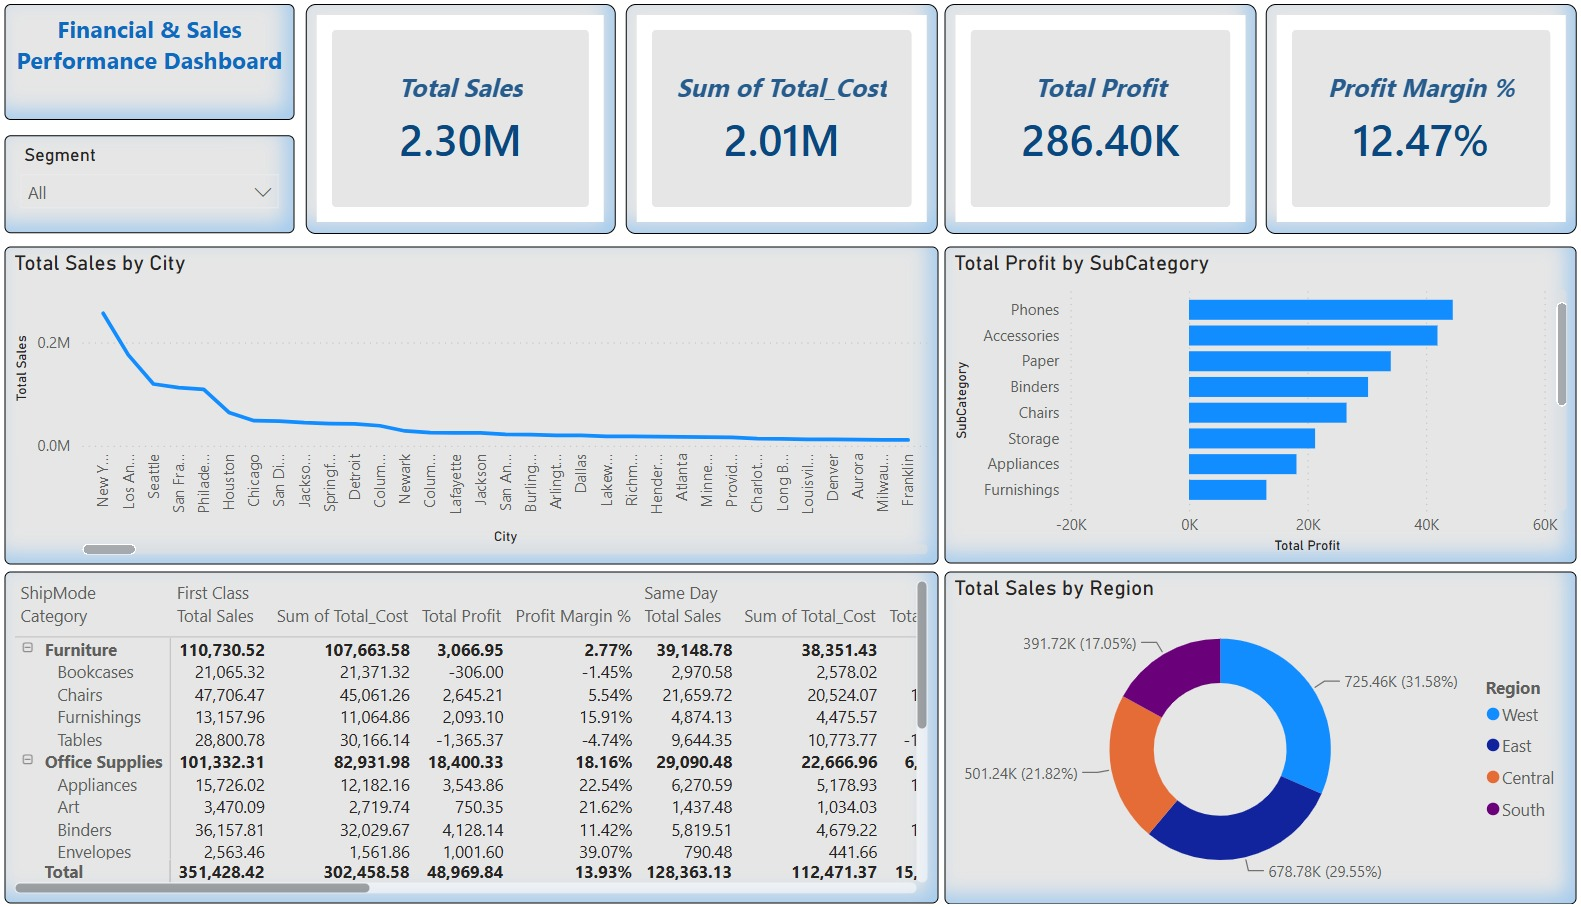

What the dashboard file says about the page in this screenshot:
{"tool":"powerbi","page":{"name":"Page 1","canvas":[1280,720],"ordinal":0},"visuals":[{"type":"group","id":"g1","title":"Group 1","box":[251,0,1017.1,184.1],"z":0},{"type":"cardVisual","fields":{"Data":["Sum(vw_Financial_Performance.Total_Cost)"]},"box":[507.3,0,249.5,184.1],"z":0,"group":"g5"},{"type":"slicer","fields":{"Values":["vw_Financial_Performance.Segment"]},"box":[9.5,105,231.8,79.1],"z":0,"group":"g3"},{"type":"clusteredBarChart","fields":{"Category":["vw_Financial_Performance.SubCategory"],"Y":["vw_Financial_Performance.Total Profit"]},"box":[761.9,194.1,505.8,253.6],"z":0,"group":"g2"},{"type":"textbox","box":[9.5,0,231.8,92.7],"z":1000,"group":"g3"},{"type":"cardVisual","fields":{"Data":["vw_Financial_Performance.Total Sales"]},"box":[251,0,248.1,184.1],"z":1000,"group":"g5"},{"type":"group","id":"g2","title":"Group 3","box":[761.9,194.1,506.1,526.9],"z":1000},{"type":"group","id":"g3","title":"Group 4","box":[9.5,0,231.8,184.1],"z":2000},{"type":"cardVisual","fields":{"Data":["vw_Financial_Performance.Total Profit"]},"box":[762.2,0,249.5,184.1],"z":2000,"group":"g5"},{"type":"cardVisual","fields":{"Data":["vw_Financial_Performance.Profit Margin %"]},"box":[1018.6,0,249.5,184.1],"z":3000,"group":"g5"},{"type":"group","id":"g4","title":"Group 5","box":[9.5,194.1,747.2,526.1],"z":3000},{"type":"lineChart","fields":{"Y":["vw_Financial_Performance.Total Sales"],"Category":["vw_Financial_Performance.City"]},"box":[9.5,194.1,747.2,255],"z":3000,"group":"g4"},{"type":"donutChart","fields":{"Category":["vw_Financial_Performance.Region"],"Y":["vw_Financial_Performance.Total Sales"]},"box":[762,454,506,267],"z":3000,"group":"g2"},{"type":"pivotTable","fields":{"Rows":["vw_Financial_Performance.Category","vw_Financial_Performance.SubCategory"],"Values":["vw_Financial_Performance.Total Sales","Sum(vw_Financial_Performance.Total_Cost)","vw_Financial_Performance.Total Profit","vw_Financial_Performance.Profit Margin %"],"Columns":["vw_Financial_Performance.ShipMode"]},"box":[9.5,454.3,747.2,265.9],"z":4000,"group":"g4"},{"type":"group","id":"g5","title":"Group 2","box":[251,0,1017.1,184.1],"z":4004,"group":"g1"}]}

Visuals, with their boxes in screenshot pixels (x1, y1, x2, y2), scaled from the page's 1280x720 canvas onto the 1581x907 screenshot:
"Group 1" group: locate(310, 0, 1566, 232)
cardVisual - Sum(vw_Financial_Performance.Total_Cost): locate(627, 0, 935, 232)
slicer - vw_Financial_Performance.Segment: locate(12, 132, 298, 232)
clusteredBarChart - vw_Financial_Performance.SubCategory x vw_Financial_Performance.Total Profit: locate(941, 245, 1566, 564)
textbox: locate(12, 0, 298, 117)
cardVisual - vw_Financial_Performance.Total Sales: locate(310, 0, 616, 232)
"Group 3" group: locate(941, 245, 1566, 906)
"Group 4" group: locate(12, 0, 298, 232)
cardVisual - vw_Financial_Performance.Total Profit: locate(941, 0, 1250, 232)
cardVisual - vw_Financial_Performance.Profit Margin %: locate(1258, 0, 1566, 232)
"Group 5" group: locate(12, 245, 935, 906)
lineChart - vw_Financial_Performance.Total Sales x vw_Financial_Performance.City: locate(12, 245, 935, 566)
donutChart - vw_Financial_Performance.Region x vw_Financial_Performance.Total Sales: locate(941, 572, 1566, 906)
pivotTable - vw_Financial_Performance.Category x vw_Financial_Performance.SubCategory: locate(12, 572, 935, 906)
"Group 2" group: locate(310, 0, 1566, 232)
